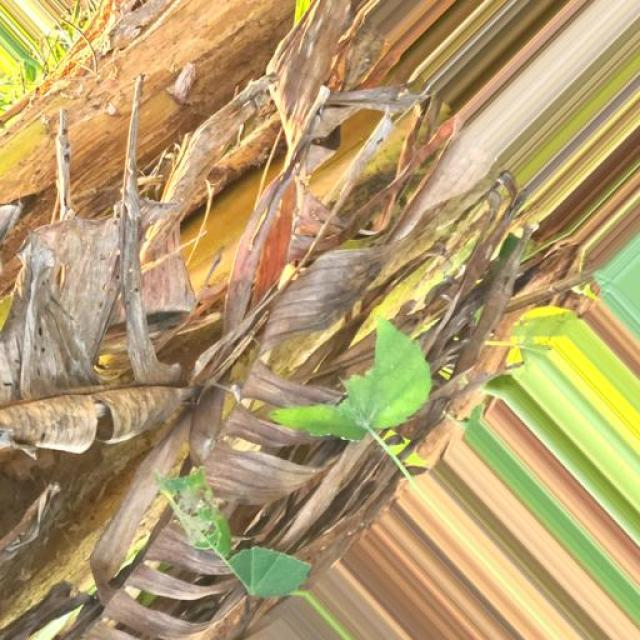Bract_mosaic_virus: (44, 0, 640, 406), (0, 145, 328, 640), (329, 397, 640, 640)
